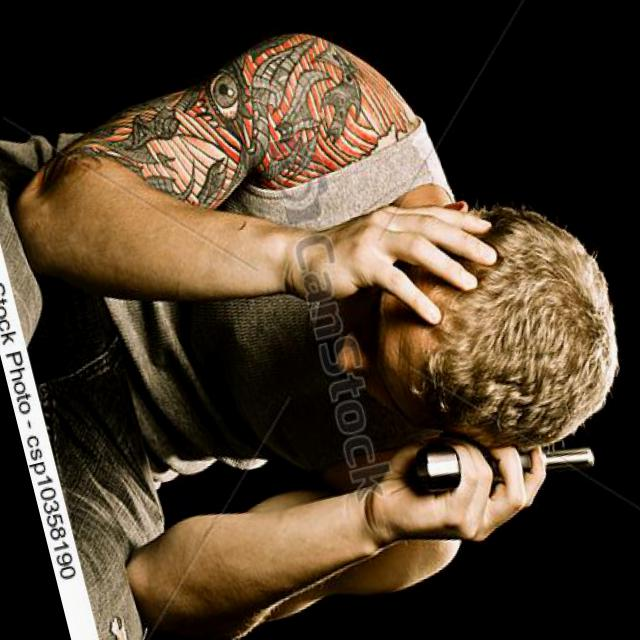handgun: (398, 400, 600, 514)
